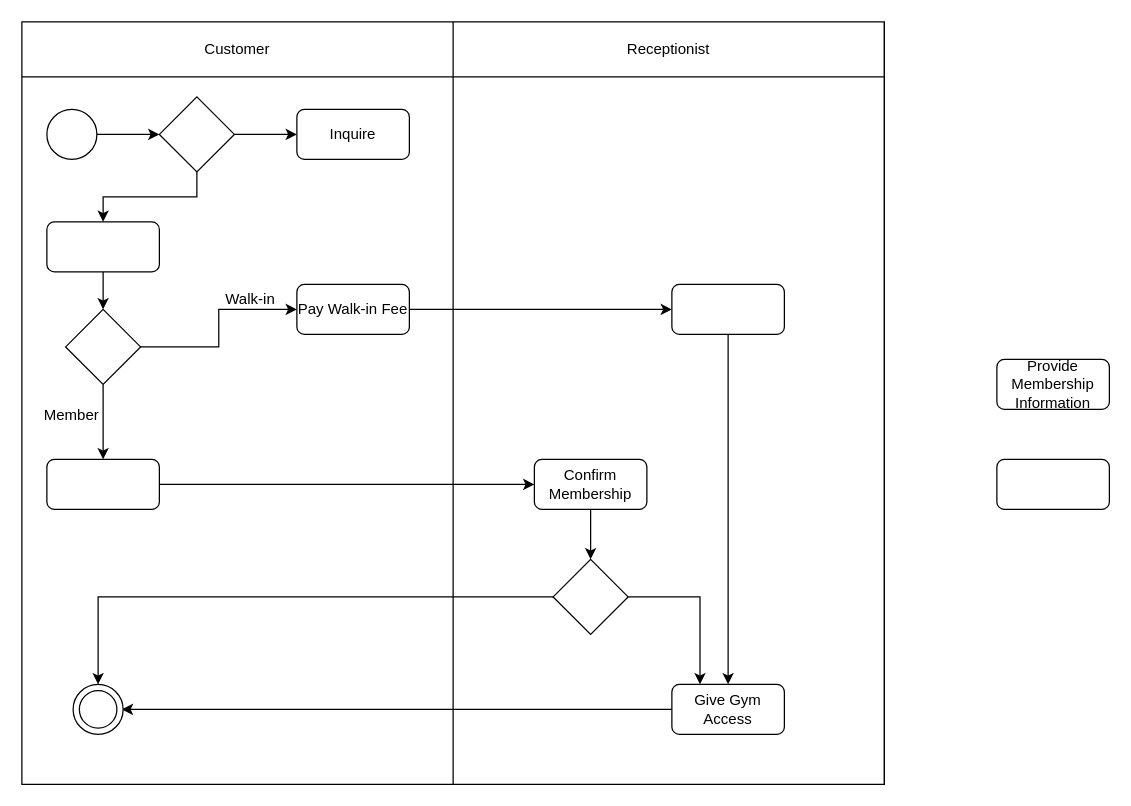
Image size: 1131x806. Some labels were removed from this diagram. The centre of each missing label's shape, as x and y in pixels:
Confirm Payment: pixel 727 308
Provide Member ID: pixel 102 483
Request Gym Access: pixel 102 246
